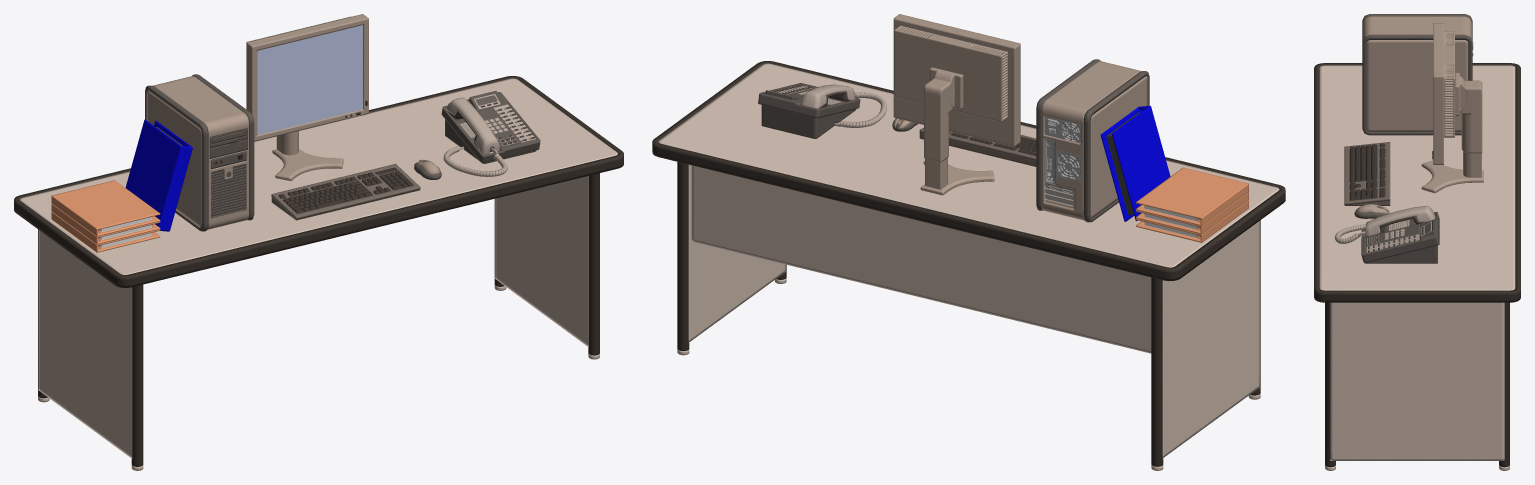
Rendered from yeni masa.fbx.
3 views of the same model, side by side, from view 1: azimuth 30°, elevation 25°; view 2: azimuth 150°, elevation 25°; view 3: azimuth 270°, elevation 25° (orthographic). The views are drawn at different scales.
Visible parts, largest first — view 1: keybord:h_key2; view 2: keybord:h_key2; view 3: keybord:h_key2.
Part boxes in pixels (left/top/right/bottom): keybord:h_key2: left=14, top=14, right=623, bottom=470; keybord:h_key2: left=652, top=14, right=1285, bottom=470; keybord:h_key2: left=1314, top=14, right=1520, bottom=470.
Size of the model in its own units: 2 by 1.28 by 0.76.
